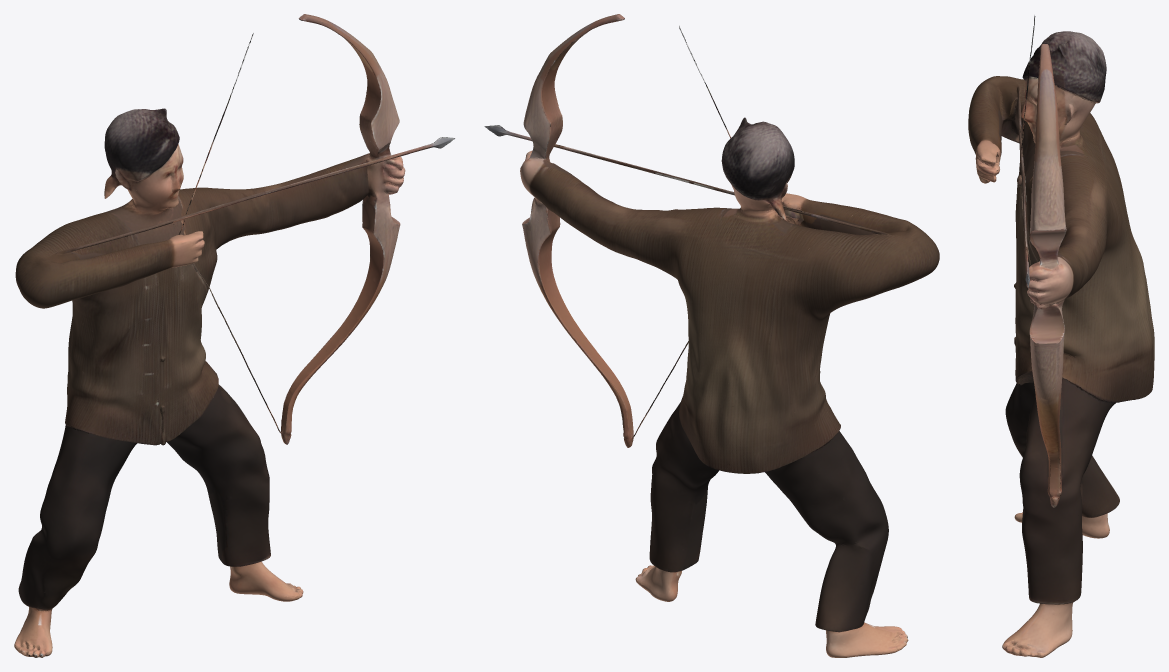
Rendered from penembak.glb.
The picture shows the model from 3 angles, left to right: view 1: azimuth 30°, elevation 25°; view 2: azimuth 150°, elevation 25°; view 3: azimuth 270°, elevation 25°; orthographic projection. The views are drawn at different scales.
Bounding box in the file's own units: 1.55 × 1.9 × 0.5145.
Materials: 1 (1 with a texture image).
